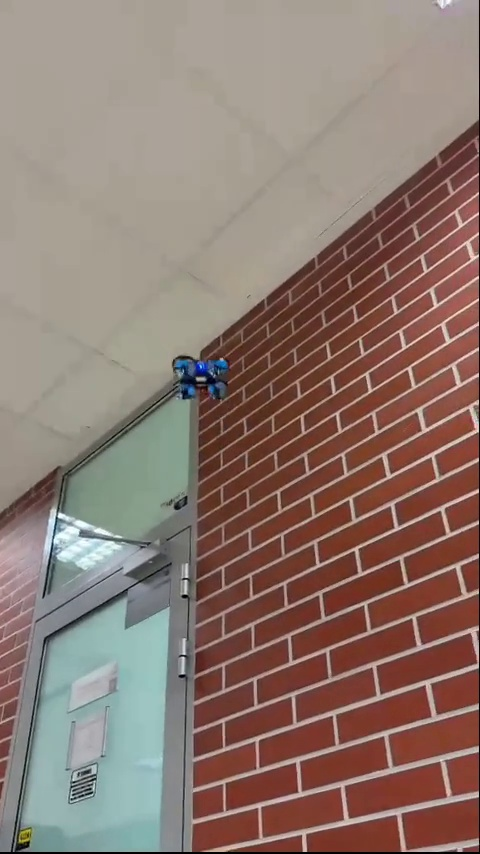drone: (171, 354, 231, 406)
